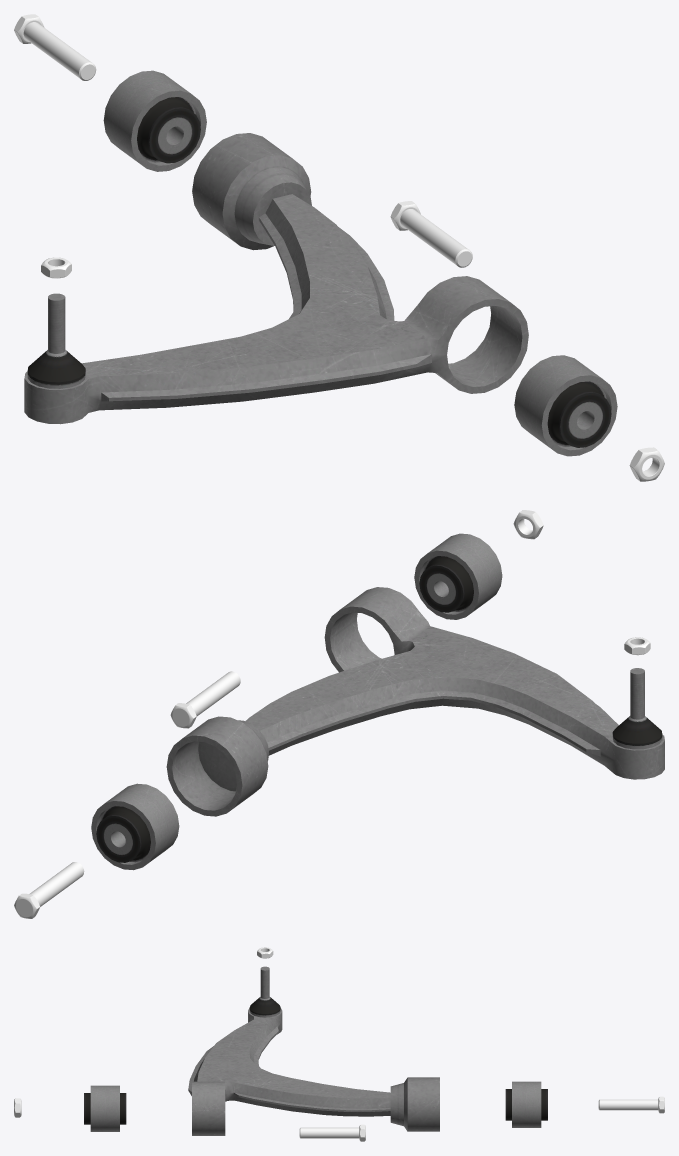
The model's file is conArm.glb.
3 views of the same model, one above another, from view 1: azimuth 30°, elevation 25°; view 2: azimuth 150°, elevation 25°; view 3: azimuth 270°, elevation 25° (orthographic). The views are drawn at different scales.
Parts seen in each view (by area): view 1: wahaczDolny_1(0), tuleja_1(1), tuleja_1(0), srubaTuleje_1N, srubaTuleje_1, nakretkaTulejeMale_1; view 2: wahaczDolny_1(0), tuleja_1(0), tuleja_1(1), srubaTuleje_1N, srubaTuleje_1, nakretkaTulejeMale_1; view 3: wahaczDolny_1(0), tuleja_1(0), tuleja_1(1), srubaTuleje_1N, srubaTuleje_1.
Part boxes in pixels (left/top/right/bottom): wahaczDolny_1(0): left=24, top=133, right=528, bottom=424; tuleja_1(1): left=514, top=355, right=617, bottom=456; tuleja_1(0): left=103, top=70, right=206, bottom=171; srubaTuleje_1N: left=390, top=201, right=472, bottom=267; srubaTuleje_1: left=14, top=14, right=96, bottom=80; nakretkaTulejeMale_1: left=629, top=447, right=664, bottom=481; wahaczDolny_1(0): left=166, top=587, right=664, bottom=816; tuleja_1(0): left=91, top=783, right=179, bottom=870; tuleja_1(1): left=414, top=533, right=502, bottom=619; srubaTuleje_1N: left=170, top=671, right=240, bottom=728; srubaTuleje_1: left=14, top=862, right=84, bottom=918; nakretkaTulejeMale_1: left=513, top=510, right=543, bottom=539; wahaczDolny_1(0): left=188, top=966, right=439, bottom=1135; tuleja_1(0): left=505, top=1081, right=547, bottom=1127; tuleja_1(1): left=84, top=1085, right=126, bottom=1131; srubaTuleje_1N: left=299, top=1124, right=365, bottom=1141; srubaTuleje_1: left=598, top=1096, right=664, bottom=1113.
Bounding box in the file's own units: 0.0114 × 0.0038 × 0.025.
3 materials, 2 textured.
